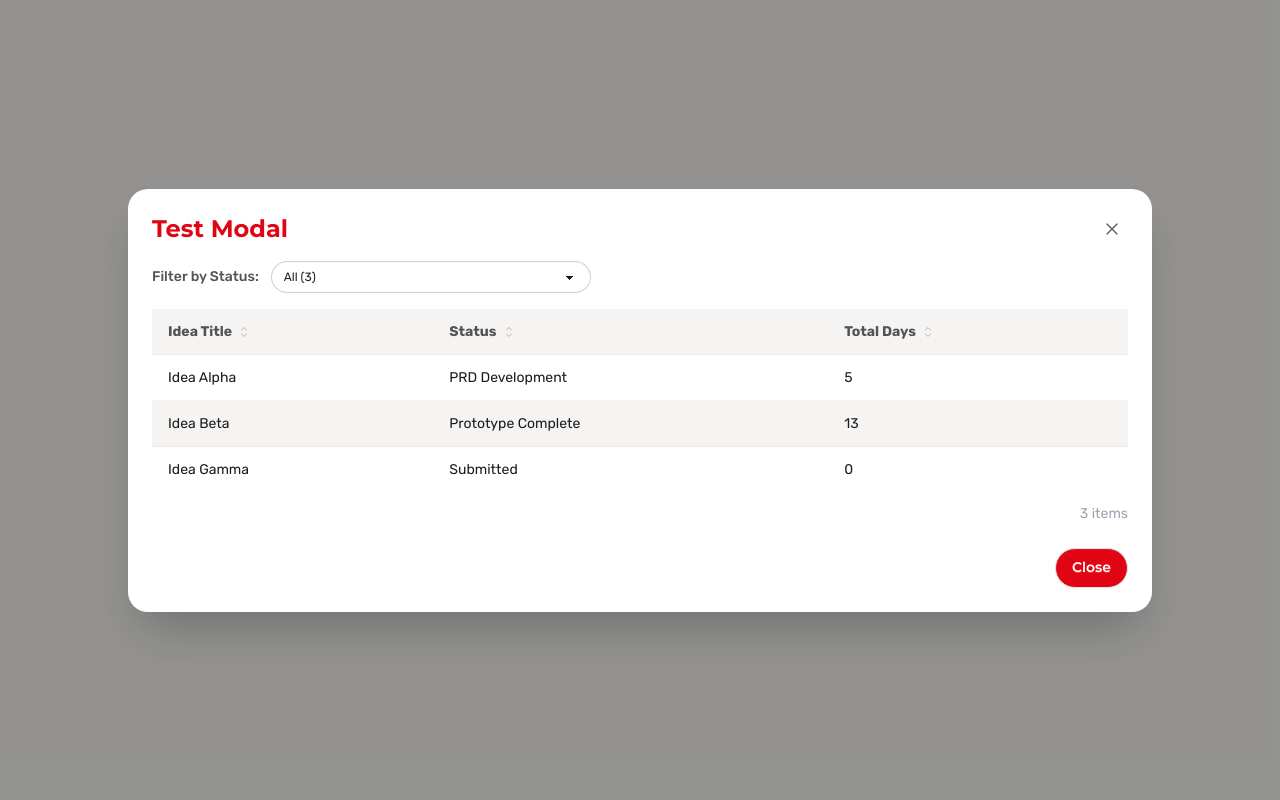
DrillDownModal › should sort data ascending when column header is clicked
Click on "Total Days" header to sort ascending
Click the column heading "Total Days".
click(978, 332)  # box left=828, top=308, right=1128, bottom=354
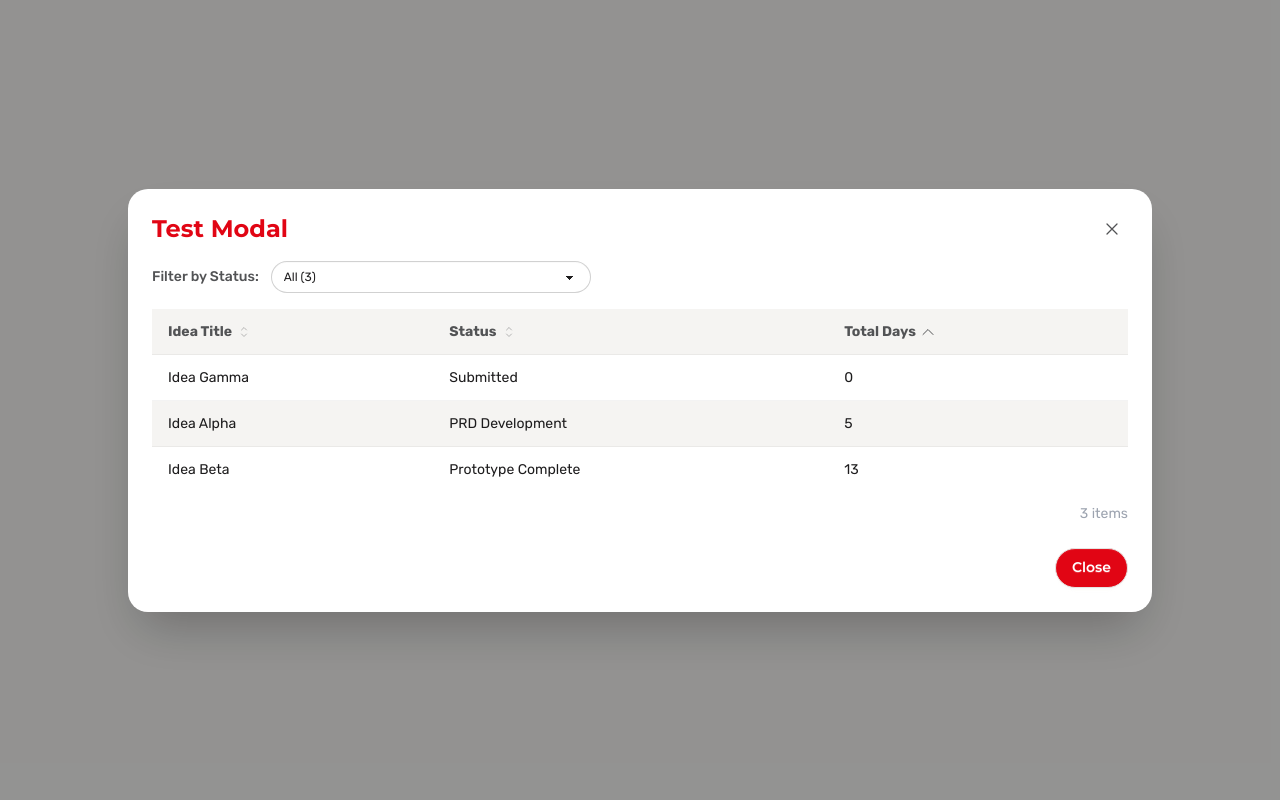
Expected: the number of rows is 4, left=152, top=308, right=1128, bottom=354; left=152, top=354, right=1128, bottom=400; left=152, top=400, right=1128, bottom=446; left=152, top=446, right=1128, bottom=492
Result: the row "Idea Gamma Submitted 0" is shown at left=152, top=354, right=1128, bottom=400
